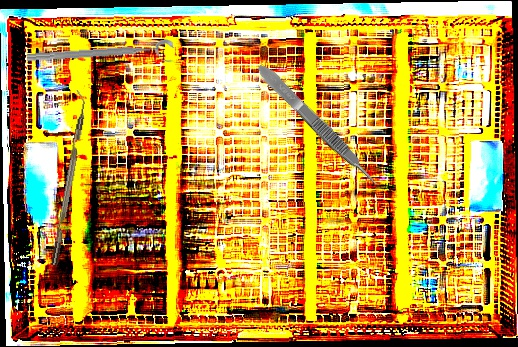Chopper: (42, 90, 91, 266)
Fixation Ring: (26, 38, 175, 75)
Tissue Forceps: (253, 60, 383, 192)
